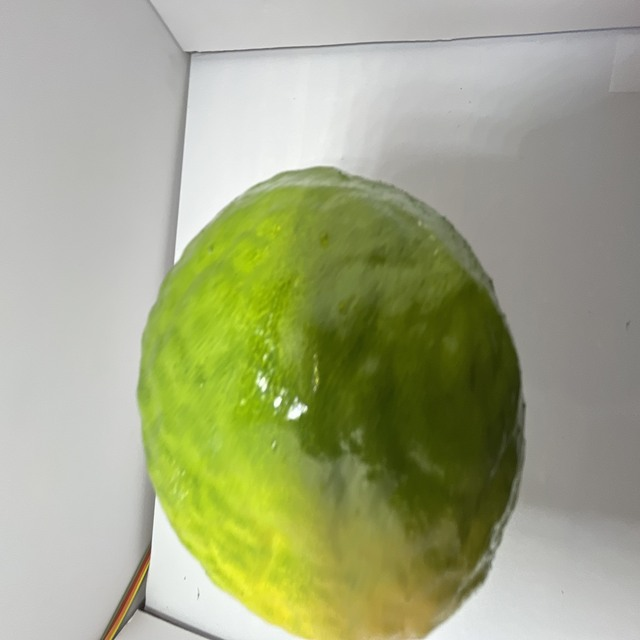Cam xanh: (136, 159, 536, 640)
